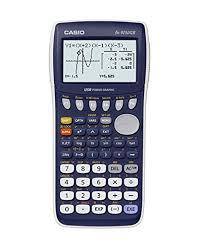Calculator: (42, 15, 161, 232)
